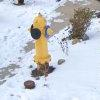a fire hydrant: (28, 12, 55, 64)
